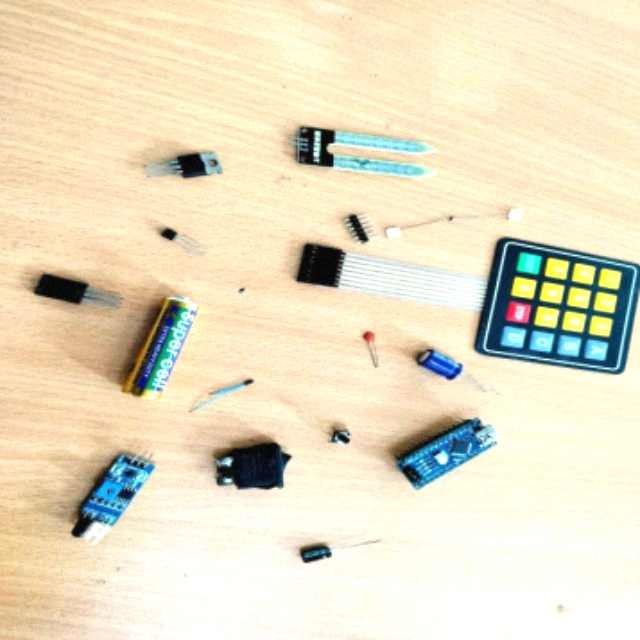capacitor: (420, 354, 460, 379), (300, 543, 331, 562), (363, 331, 374, 342)
